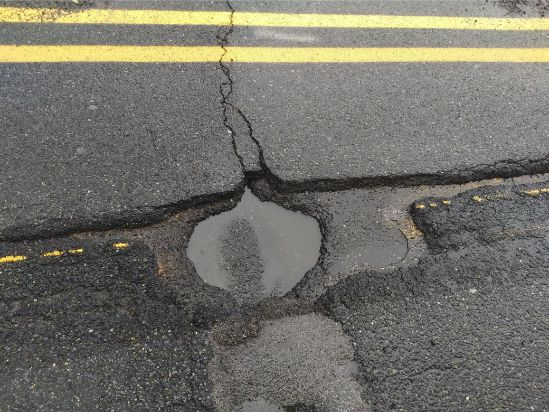pothole: (104, 165, 466, 310), (192, 309, 380, 412), (181, 181, 329, 305)
